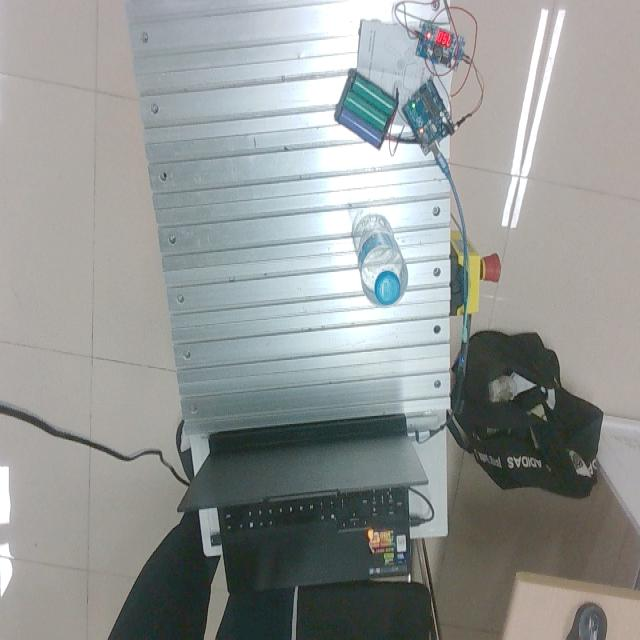lavie: (353, 213, 408, 310)
